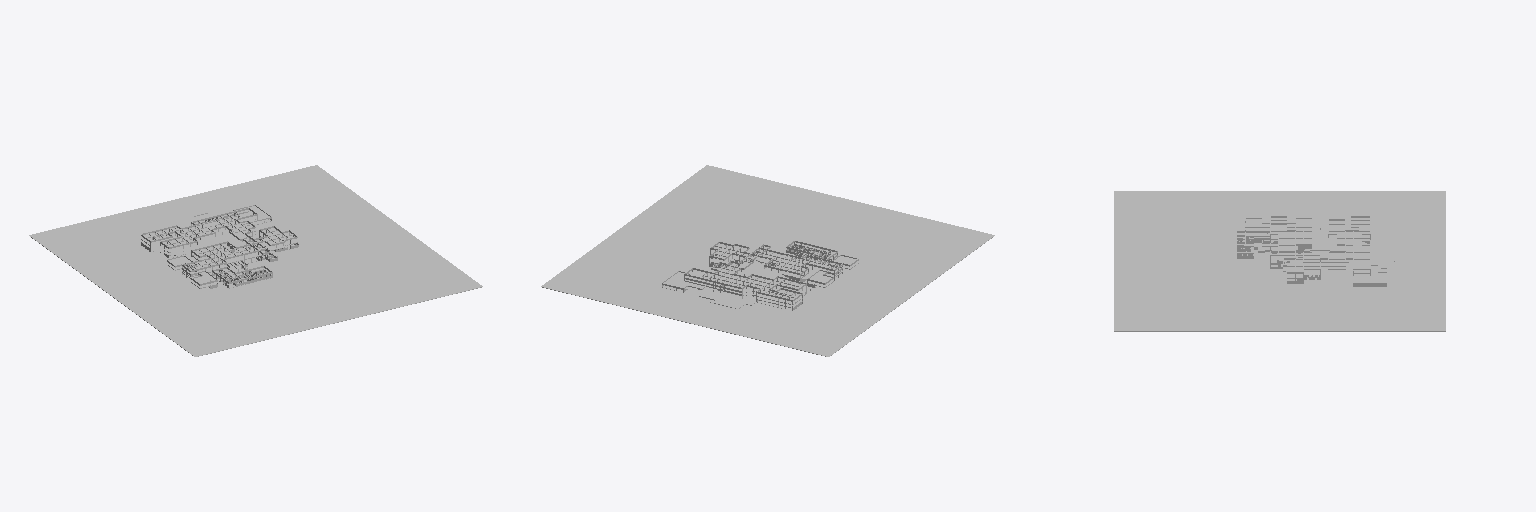
Rendered from CAC_OBJ - Copia.obj.
3 views of the same model, side by side, from view 1: azimuth 30°, elevation 25°; view 2: azimuth 150°, elevation 25°; view 3: azimuth 270°, elevation 25° (orthographic).
Visible parts, largest first — view 1: chao_Cube.026, Piso_2_Laje, Viga_Atelier_-_Pavimento, Viga_Front_3_Andar.001; view 2: chao_Cube.026, Piso_2_Laje, Viga_Atelier_-_Pavimento, Viga_Front_3_Andar.001, Quem_Me_Quer; view 3: chao_Cube.026, Piso_2_Laje, Viga_Atelier_-_Pavimento, Day_Corte_Piso_Principal_Day_Corte_Piso_Principal.002.
Part boxes in pixels (bbox=[...]): chao_Cube.026: bbox=[29, 165, 482, 356]; Piso_2_Laje: bbox=[141, 212, 255, 251]; Viga_Atelier_-_Pavimento: bbox=[184, 232, 296, 275]; Viga_Front_3_Andar.001: bbox=[142, 209, 269, 254]; chao_Cube.026: bbox=[541, 165, 994, 356]; Piso_2_Laje: bbox=[686, 260, 805, 303]; Viga_Atelier_-_Pavimento: bbox=[711, 248, 839, 278]; Viga_Front_3_Andar.001: bbox=[684, 245, 806, 301]; Quem_Me_Quer: bbox=[699, 290, 757, 308]; chao_Cube.026: bbox=[1114, 191, 1445, 331]; Piso_2_Laje: bbox=[1299, 221, 1369, 272]; Viga_Atelier_-_Pavimento: bbox=[1271, 222, 1319, 277]; Day_Corte_Piso_Principal_Day_Corte_Piso_Principal.002: bbox=[1237, 233, 1383, 282].
Bounding box in the file's own units: 300 × 11.95 × 300.